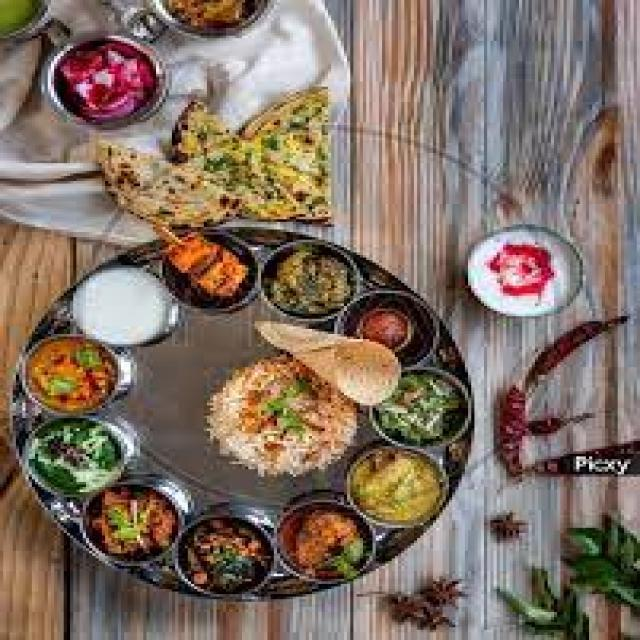curd: (66, 266, 186, 346)
dal: (351, 450, 457, 530)
papad: (248, 311, 405, 415)
pickle: (456, 221, 590, 315)
raita: (66, 261, 183, 346), (259, 244, 367, 319)
rice: (104, 87, 355, 244), (197, 346, 366, 478)
roti: (119, 88, 345, 236)
sambar-rasam: (20, 334, 129, 409)
sweet: (460, 226, 590, 317), (48, 44, 174, 126), (348, 293, 429, 362)
veg-fry: (273, 503, 379, 585), (74, 484, 186, 561), (152, 0, 273, 40)
